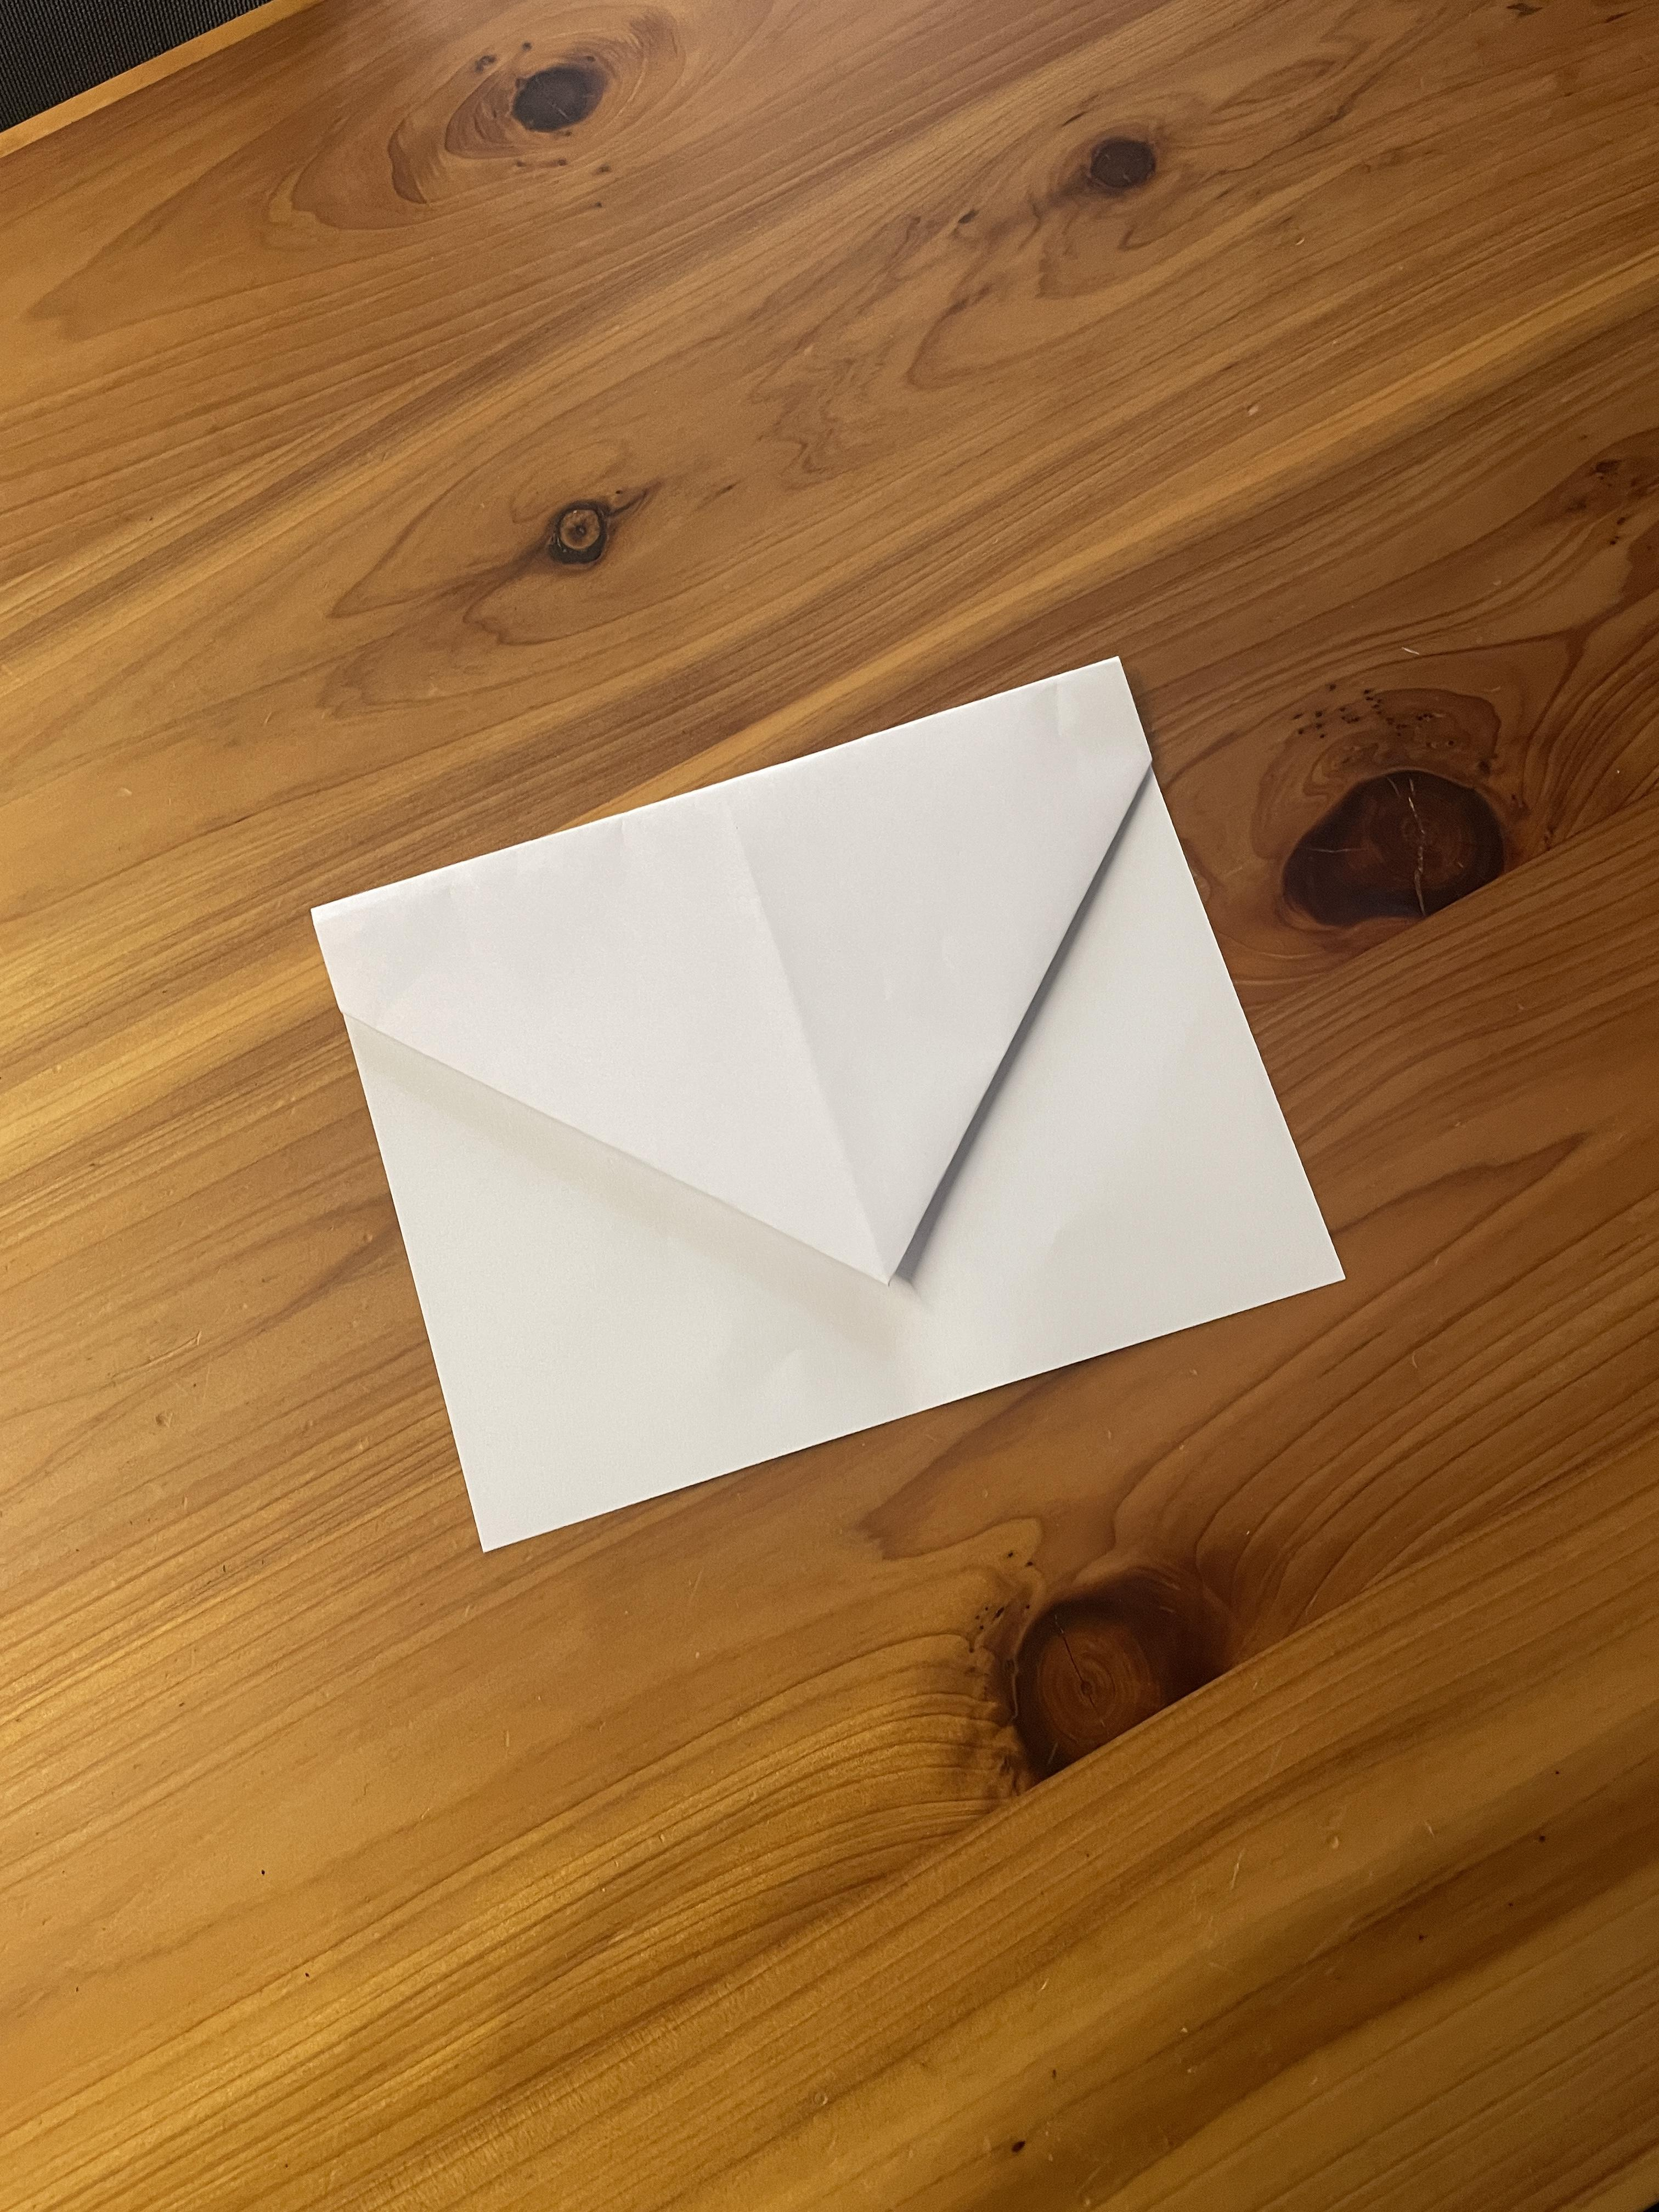shape_1: (171, 533, 1478, 1648)
